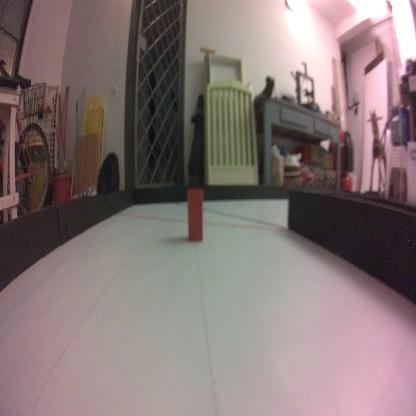red: (186, 185, 204, 245)
